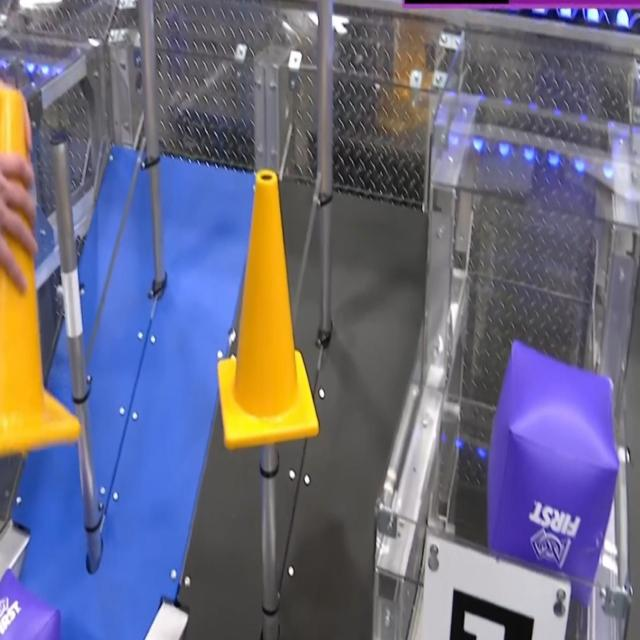frc_cone: (0, 82, 85, 452), (217, 170, 319, 450)
frc_cube: (487, 336, 616, 612), (0, 566, 65, 640)
